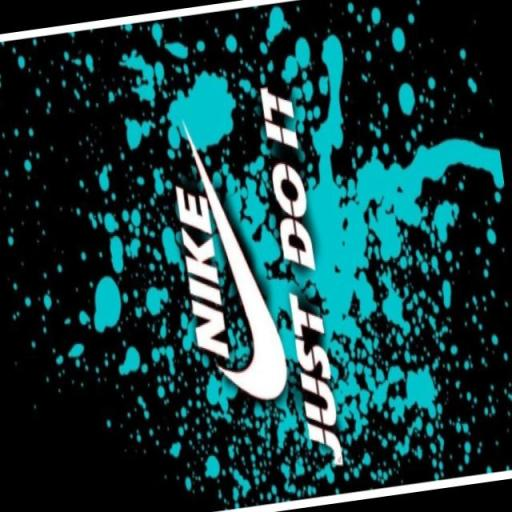Nike: (176, 104, 293, 413), (170, 180, 236, 366)
